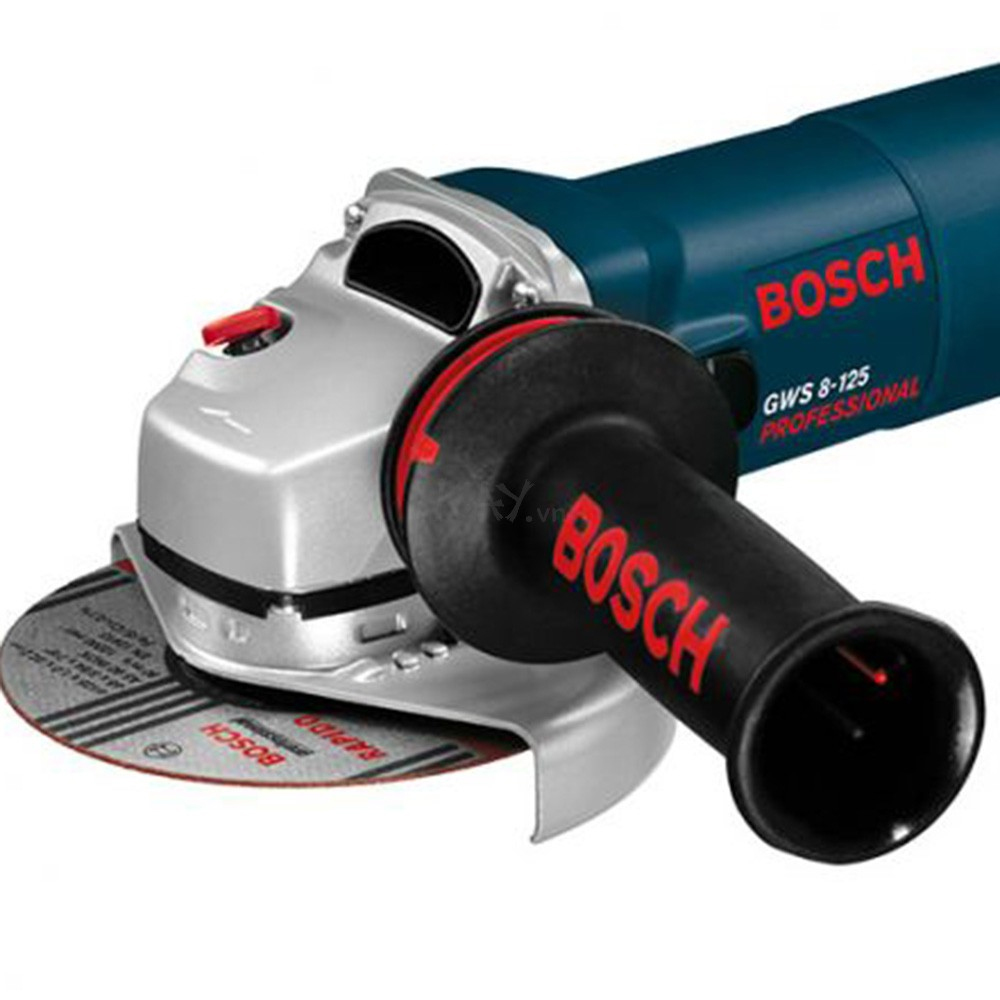Bosch: (538, 477, 737, 705), (741, 225, 949, 340), (200, 713, 289, 775)
